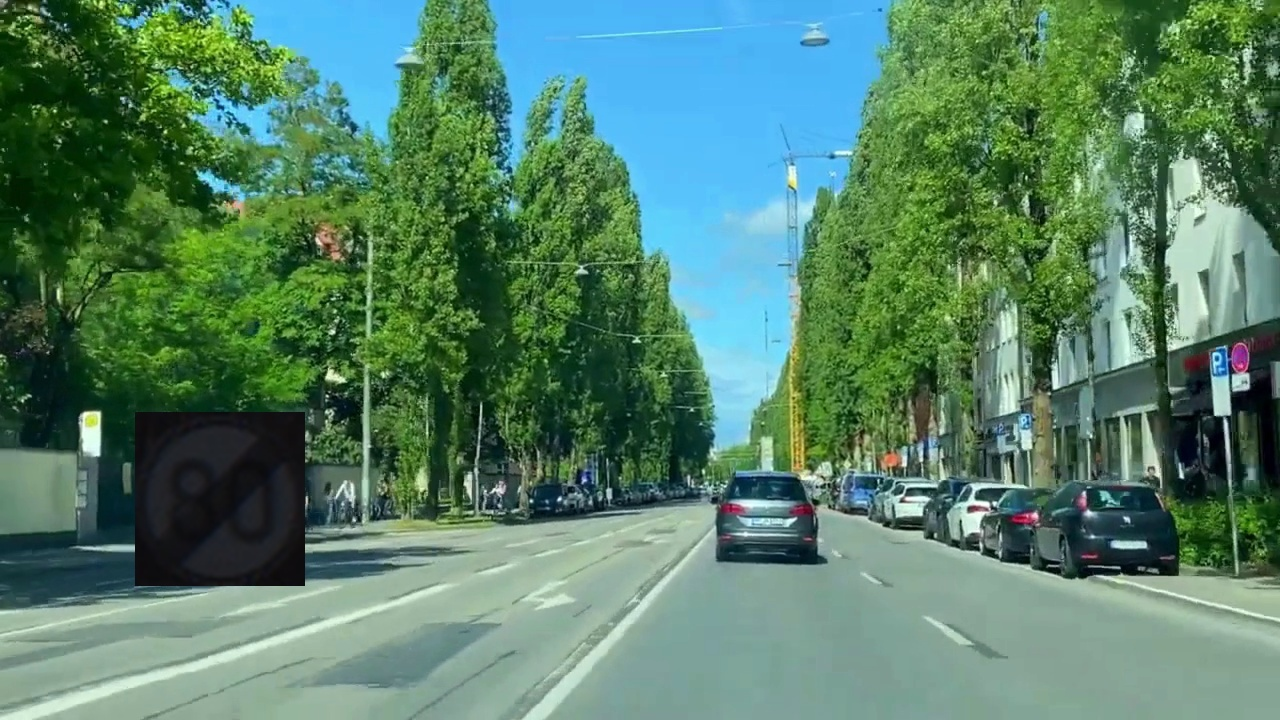End Speed 80: (135, 412, 305, 586)
